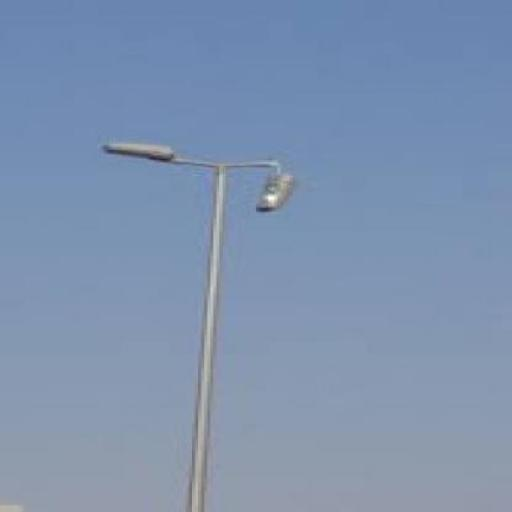street light: (97, 140, 302, 511)
